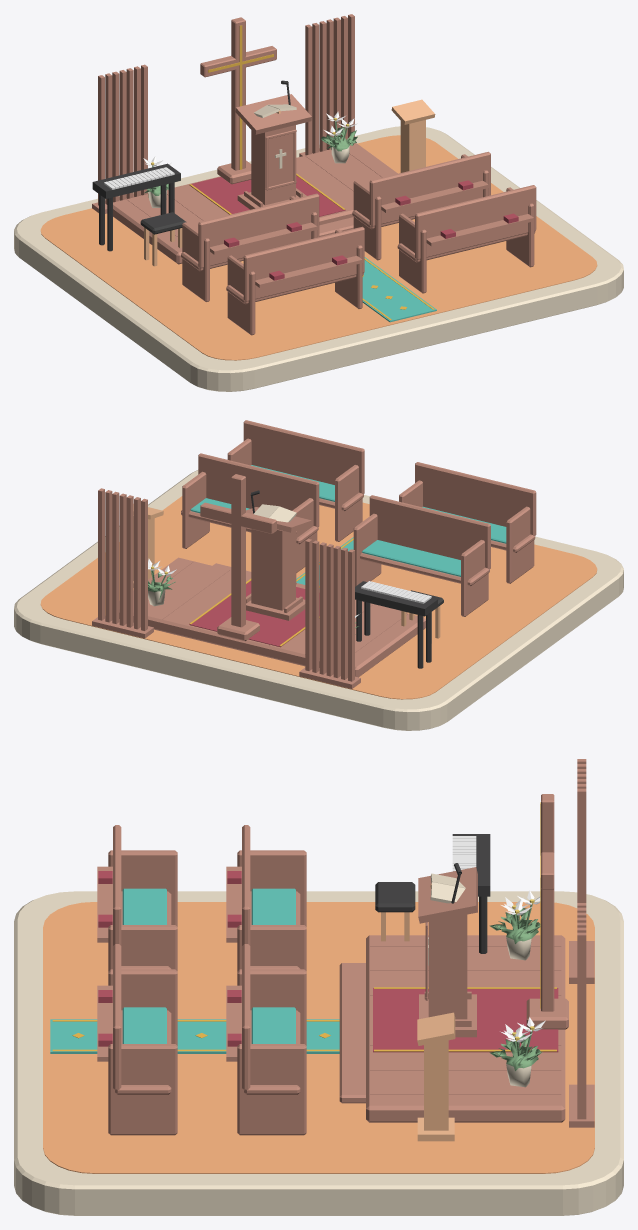
The model's file is room.fbx.
3 views of the same model, one above another, from view 1: azimuth 30°, elevation 25°; view 2: azimuth 150°, elevation 25°; view 3: azimuth 270°, elevation 25° (orthographic). The views are drawn at different scales.
Parts seen in each view (by area): view 1: COM-02 Floor Surface, COM-01 Rounded Base Direct, Sanctuary platform, Back.002, Back.003, Back.001, Back, Body, Aisle runner, Stage carpet, Cross upright.001, Reading top (+32 smaller); view 2: COM-02 Floor Surface, COM-01 Rounded Base Direct, Sanctuary platform, Back.002, Back, Back.003, Back.001, Body, Stage carpet, Cross upright.001, Seat cushion, End panel.005 (+30 smaller); view 3: COM-02 Floor Surface, COM-01 Rounded Base Direct, Sanctuary platform, Stage carpet, End panel.002, End panel.006, Aisle runner, Body, Entry step, End panel.004, End panel, End panel.005 (+32 smaller).
Part boxes in pixels (x1=…): COM-02 Floor Surface: x1=40, y1=135, x2=597, y2=360; COM-01 Rounded Base Direct: x1=14, y1=126, x2=623, y2=391; Sanctuary platform: x1=113, y1=143, x2=397, y2=264; Back.002: x1=243, y1=226, x2=364, y2=301; Back.003: x1=415, y1=185, x2=536, y2=259; Back.001: x1=369, y1=151, x2=490, y2=226; Back: x1=198, y1=193, x2=319, y2=268; Body: x1=251, y1=125, x2=295, y2=205; Aisle runner: x1=362, y1=257, x2=436, y2=322; Stage carpet: x1=189, y1=175, x2=345, y2=216; Cross upright.001: x1=231, y1=17, x2=245, y2=170; Reading top: x1=235, y1=94, x2=311, y2=134; COM-02 Floor Surface: x1=40, y1=496, x2=597, y2=699; COM-01 Rounded Base Direct: x1=14, y1=470, x2=623, y2=730; Sanctuary platform: x1=119, y1=557, x2=425, y2=677; Back.002: x1=415, y1=462, x2=536, y2=535; Back: x1=369, y1=495, x2=490, y2=569; Back.003: x1=243, y1=420, x2=364, y2=494; Back.001: x1=198, y1=453, x2=319, y2=527; Body: x1=251, y1=529, x2=295, y2=610; Stage carpet: x1=189, y1=581, x2=319, y2=647; Cross upright.001: x1=231, y1=474, x2=245, y2=627; Seat cushion: x1=362, y1=540, x2=460, y2=576; End panel.005: x1=506, y1=506, x2=534, y2=583; COM-02 Floor Surface: x1=43, y1=902, x2=594, y2=1173; COM-01 Rounded Base Direct: x1=14, y1=891, x2=623, y2=1215; Sanctuary platform: x1=366, y1=935, x2=565, y2=1122; Stage carpet: x1=373, y1=988, x2=558, y2=1052; End panel.002: x1=237, y1=1044, x2=306, y2=1135; End panel.006: x1=108, y1=1044, x2=177, y2=1135; Aisle runner: x1=50, y1=1019, x2=339, y2=1053; Body: x1=428, y1=914, x2=467, y2=1019; Entry step: x1=339, y1=963, x2=365, y2=1103; End panel.004: x1=108, y1=925, x2=177, y2=971; End panel: x1=237, y1=925, x2=306, y2=971; End panel.005: x1=108, y1=850, x2=177, y2=926.
Size of the model in its own units: 600 by 256 by 520.
